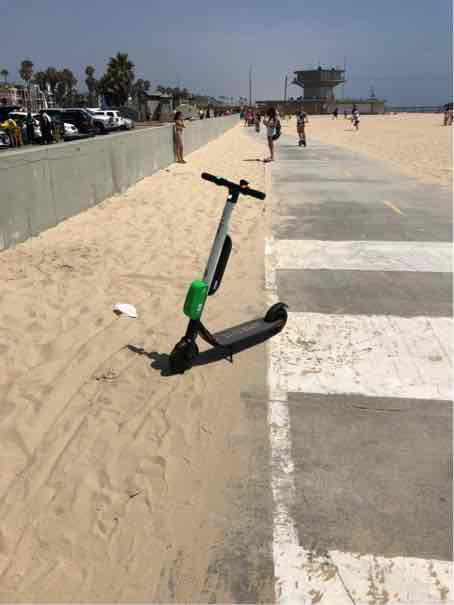scooter: (162, 158, 307, 381)
